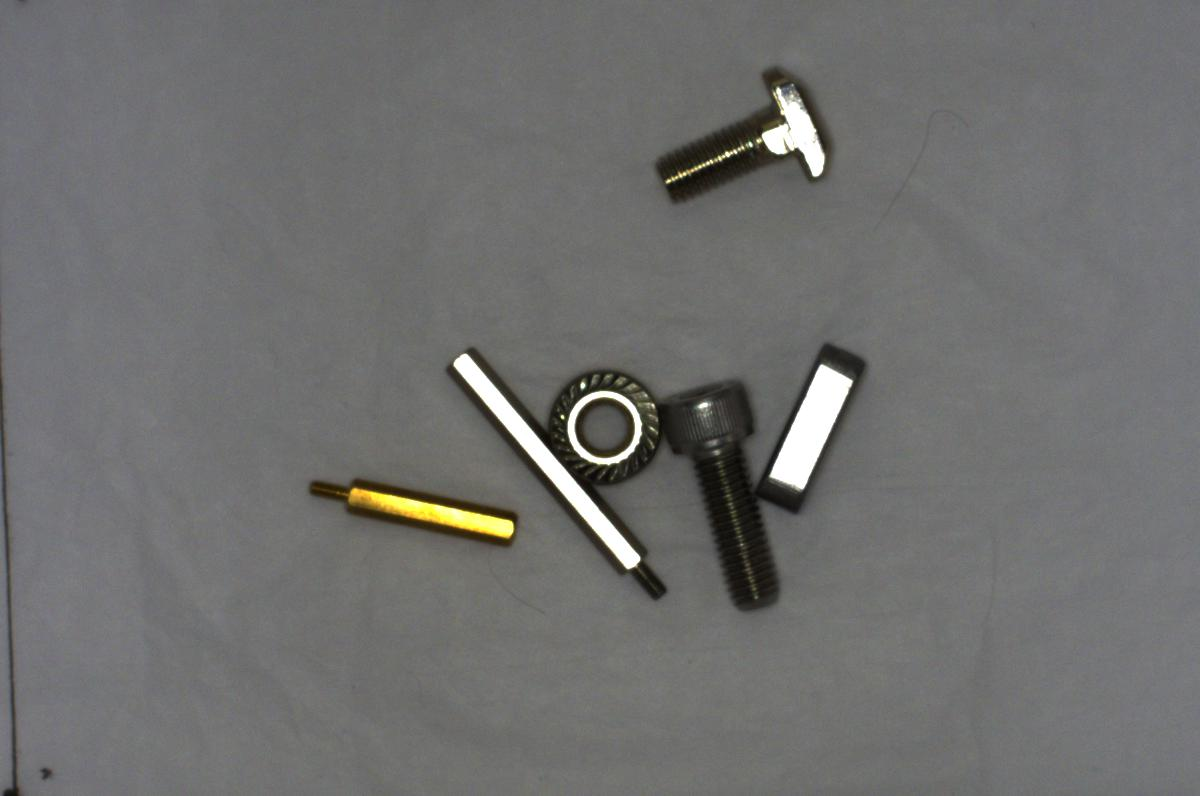Flange nut: (538, 361, 662, 492)
Hexagon pillar: (304, 468, 521, 553)
Hexagon screw: (659, 369, 785, 616)
Hexagonal steel column: (446, 343, 670, 605)
Keybar: (747, 334, 875, 519)
T-shaped screw: (648, 60, 834, 206)
